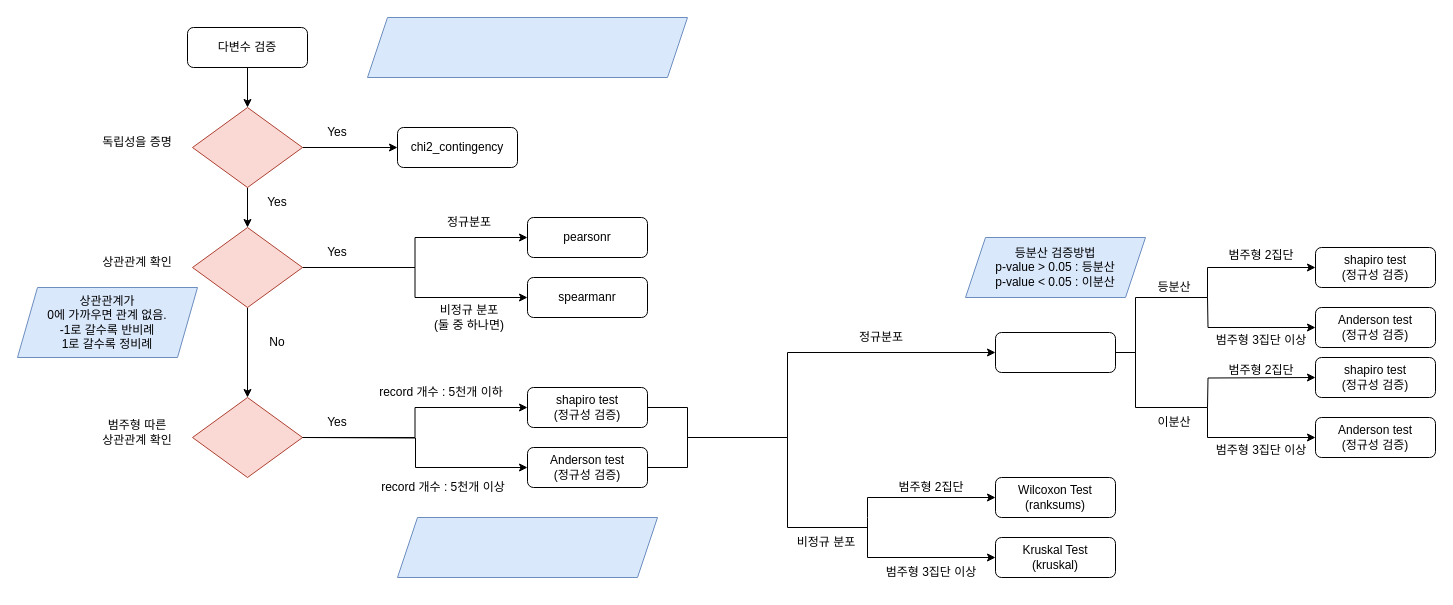
Some shapes in this 1453 by 605 pixel diagram are drawn without their labels. Here are the shapes that lost their labels. From the top down, the box of each, then its label:
(366, 16, 688, 78): 귀무가설 : 관계성이 없다. (p-value > 0.05) 대립가설 : 관계성이 있다. (p-value < 0.05)
(192, 106, 302, 188): 범주형 / 범주형
(192, 226, 302, 308): 연속형 / 연속형
(994, 332, 1116, 372): levene (등분산 검증)
(192, 396, 302, 478): 범주형 / 연속형
(396, 516, 658, 578): 정규화 검증 방법 statistic < critical value : 정규 분포 statistic > critical value : 비정규 분포
